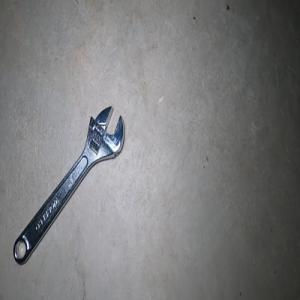Wrench: (13, 105, 124, 264)
